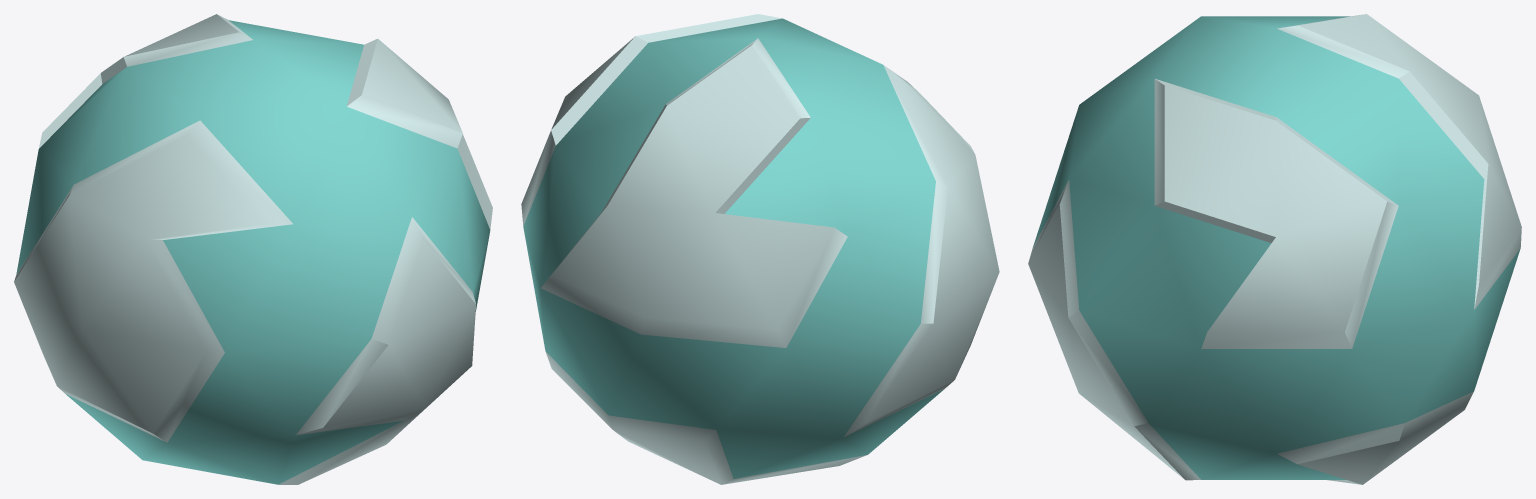
The model's file is small_ice_planet_1.fbx.
The picture shows the model from 3 angles, left to right: view 1: azimuth 30°, elevation 25°; view 2: azimuth 150°, elevation 25°; view 3: azimuth 270°, elevation 25°; orthographic projection. The views are drawn at different scales.
Visible parts, largest first — view 1: Icosphere.003; view 2: Icosphere.003; view 3: Icosphere.003.
Boxes of the visible parts, <box> form: Icosphere.003: <box>14,14,492,484</box>; Icosphere.003: <box>521,14,999,484</box>; Icosphere.003: <box>1028,14,1521,484</box>.
Bounding box in the file's own units: 120 × 120 × 120.
